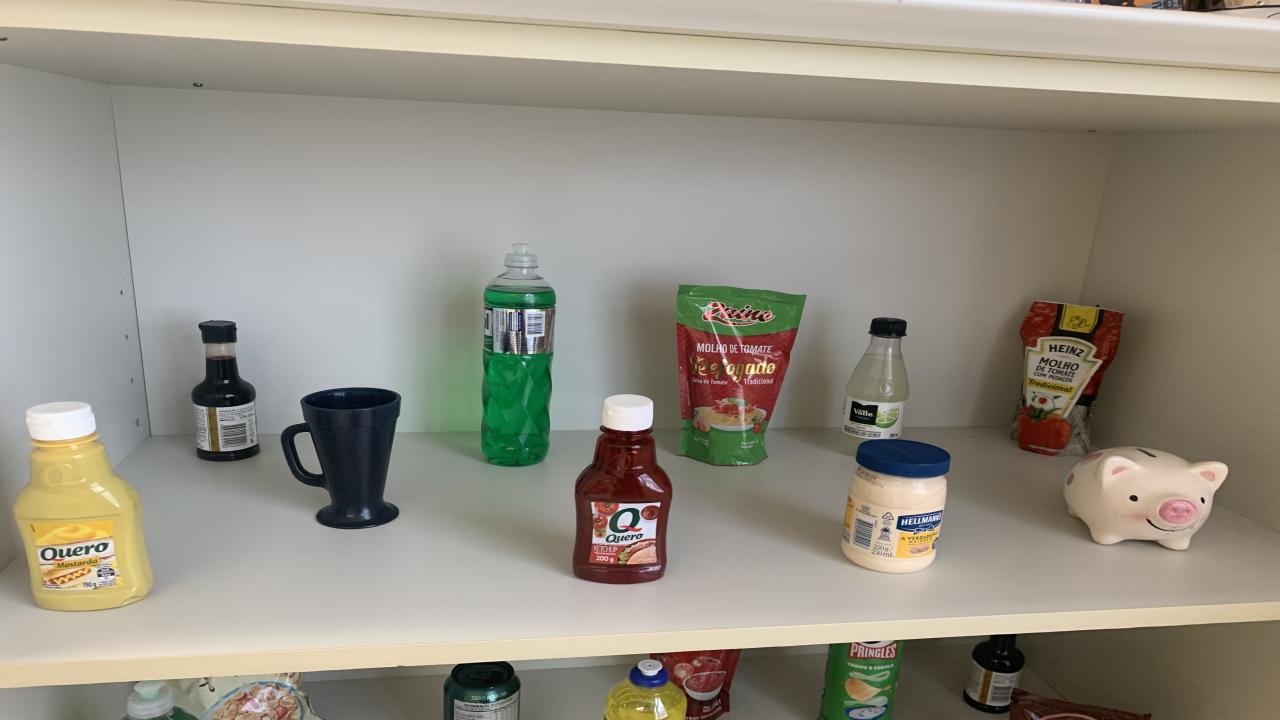Detergent-Cleanup_Items: (482, 244, 555, 467), (605, 660, 688, 720), (125, 681, 198, 720)
English_Sauce-Pantry_Items: (192, 321, 260, 461), (965, 634, 1025, 712)
Flakes-Snacks: (162, 673, 320, 720)
Guarana_Can-Drinks: (442, 662, 520, 720)
Ketchup-Pantry_Items: (572, 394, 672, 583)
Mayonnaise-Pantry_Items: (842, 439, 950, 574)
Mustard-Pantry_Items: (15, 401, 152, 611)
Pig_Safe-Miscellaneous: (1062, 446, 1228, 549)
Pringles-Snacks: (818, 641, 902, 720)
Soda-Drinks: (840, 317, 910, 456)
Tomato_Sauce-Pantry_Items: (678, 285, 805, 465), (1012, 302, 1122, 456), (652, 649, 740, 720), (652, 649, 740, 718)
